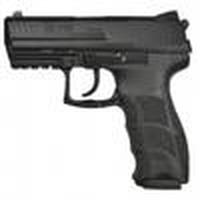gun: (2, 15, 194, 197)
